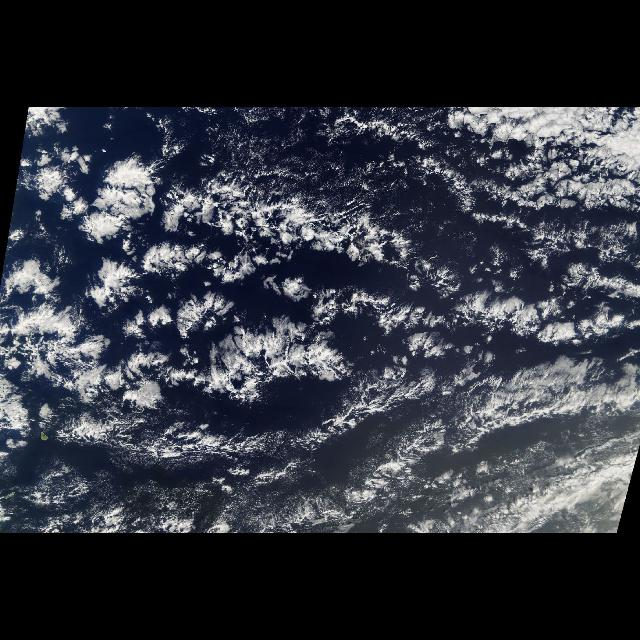Fish: (89, 157, 462, 296), (186, 316, 482, 464)
Flower: (67, 144, 369, 438)
